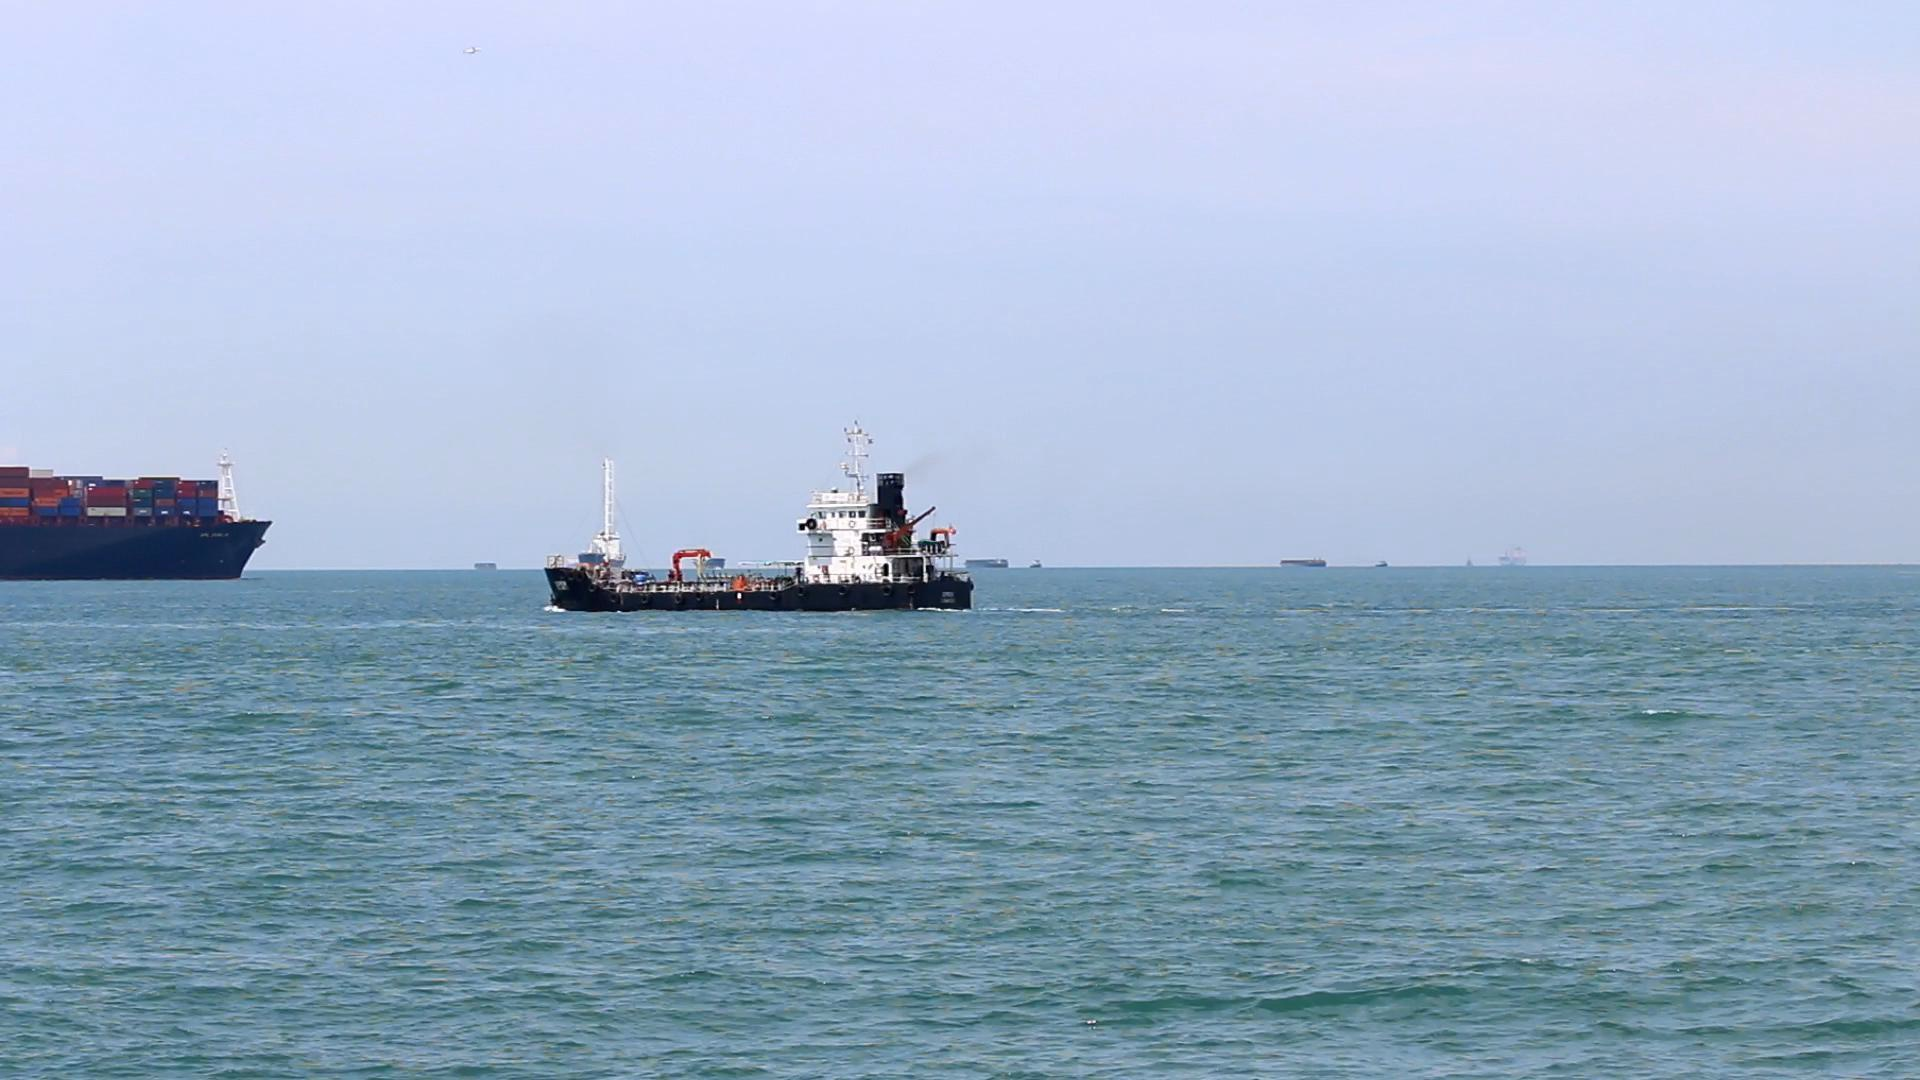Container Ship: (535, 413, 988, 618), (3, 439, 274, 591), (1274, 546, 1329, 576), (1501, 539, 1545, 572)
